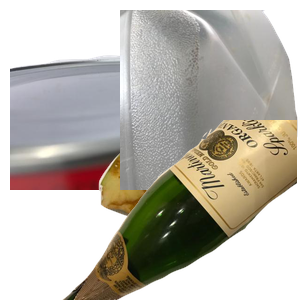glass: (60, 120, 300, 300)
metal: (10, 52, 250, 232)
plastic: (120, 10, 300, 190)
trash: (96, 145, 295, 300)
